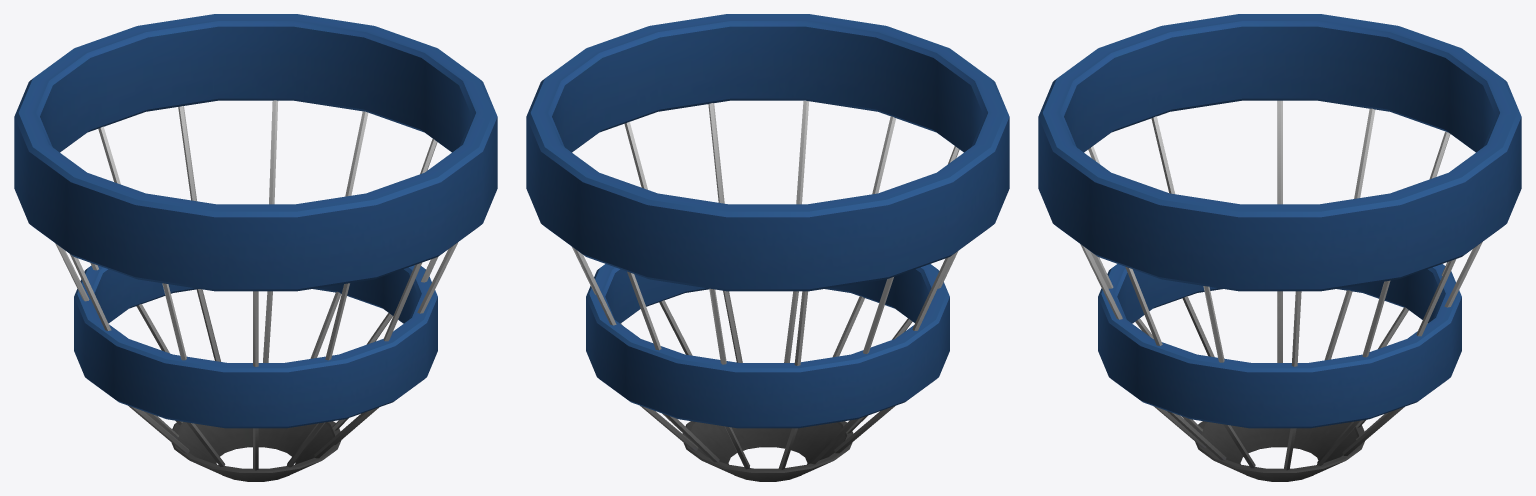
Rendered from Goal.fbx.
3 views of the same model, side by side, from view 1: azimuth 30°, elevation 25°; view 2: azimuth 150°, elevation 25°; view 3: azimuth 270°, elevation 25° (orthographic).
Visible parts, largest first — view 1: Goal; view 2: Goal; view 3: Goal.
Part boxes in pixels (x1,y1,x2,y2): Goal: (14, 14, 497, 481); Goal: (526, 14, 1009, 481); Goal: (1038, 14, 1521, 481).
Size of the model in its own units: 122 by 124 by 99.41.
